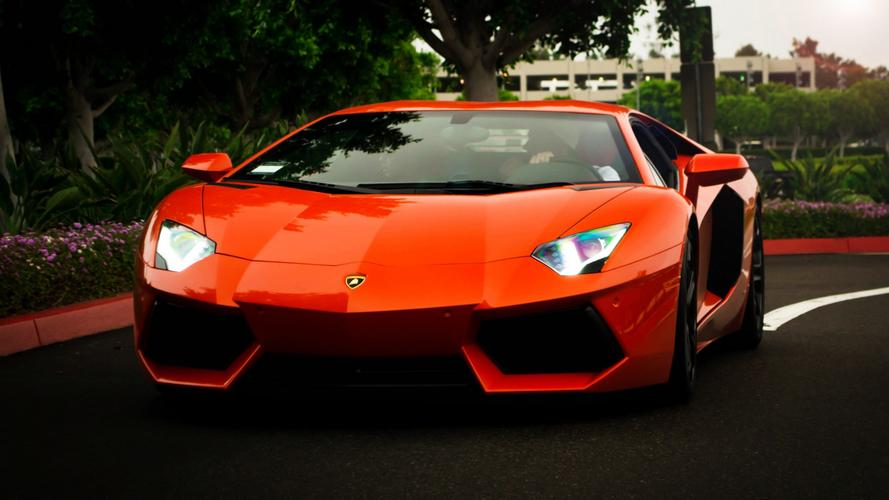汽车: (124, 72, 788, 444)
